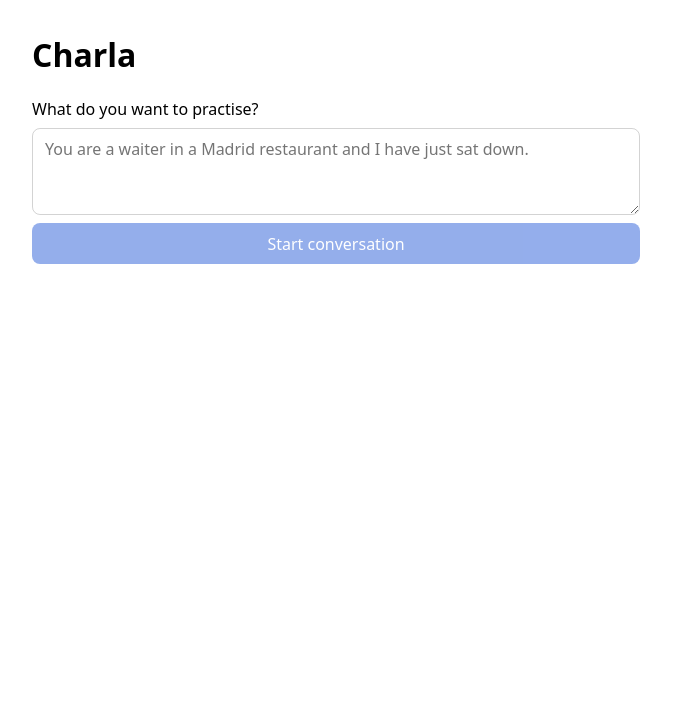
it: creates a conversation from a scenario and opens it
In the text box labelled "What do you want to practise?": (336, 172) [32,128,640,215], type "At the doctor"
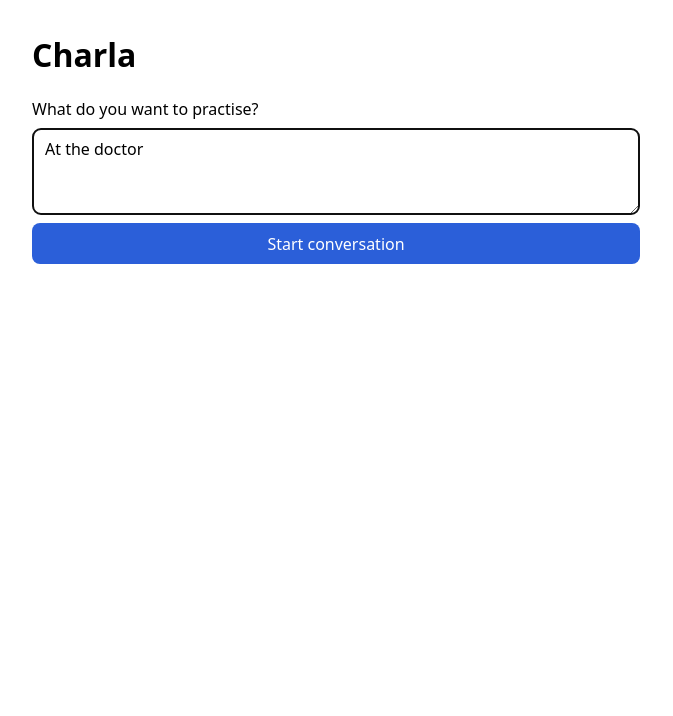
Click the button "Start conversation": (336, 244) [32,223,640,264]
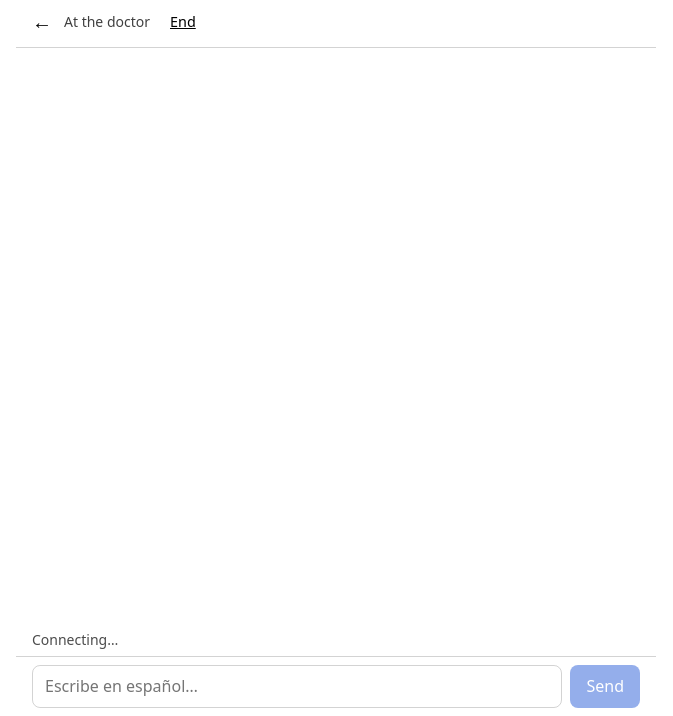
Check: the field named "Your message" is shown, box [32,665,562,708]
